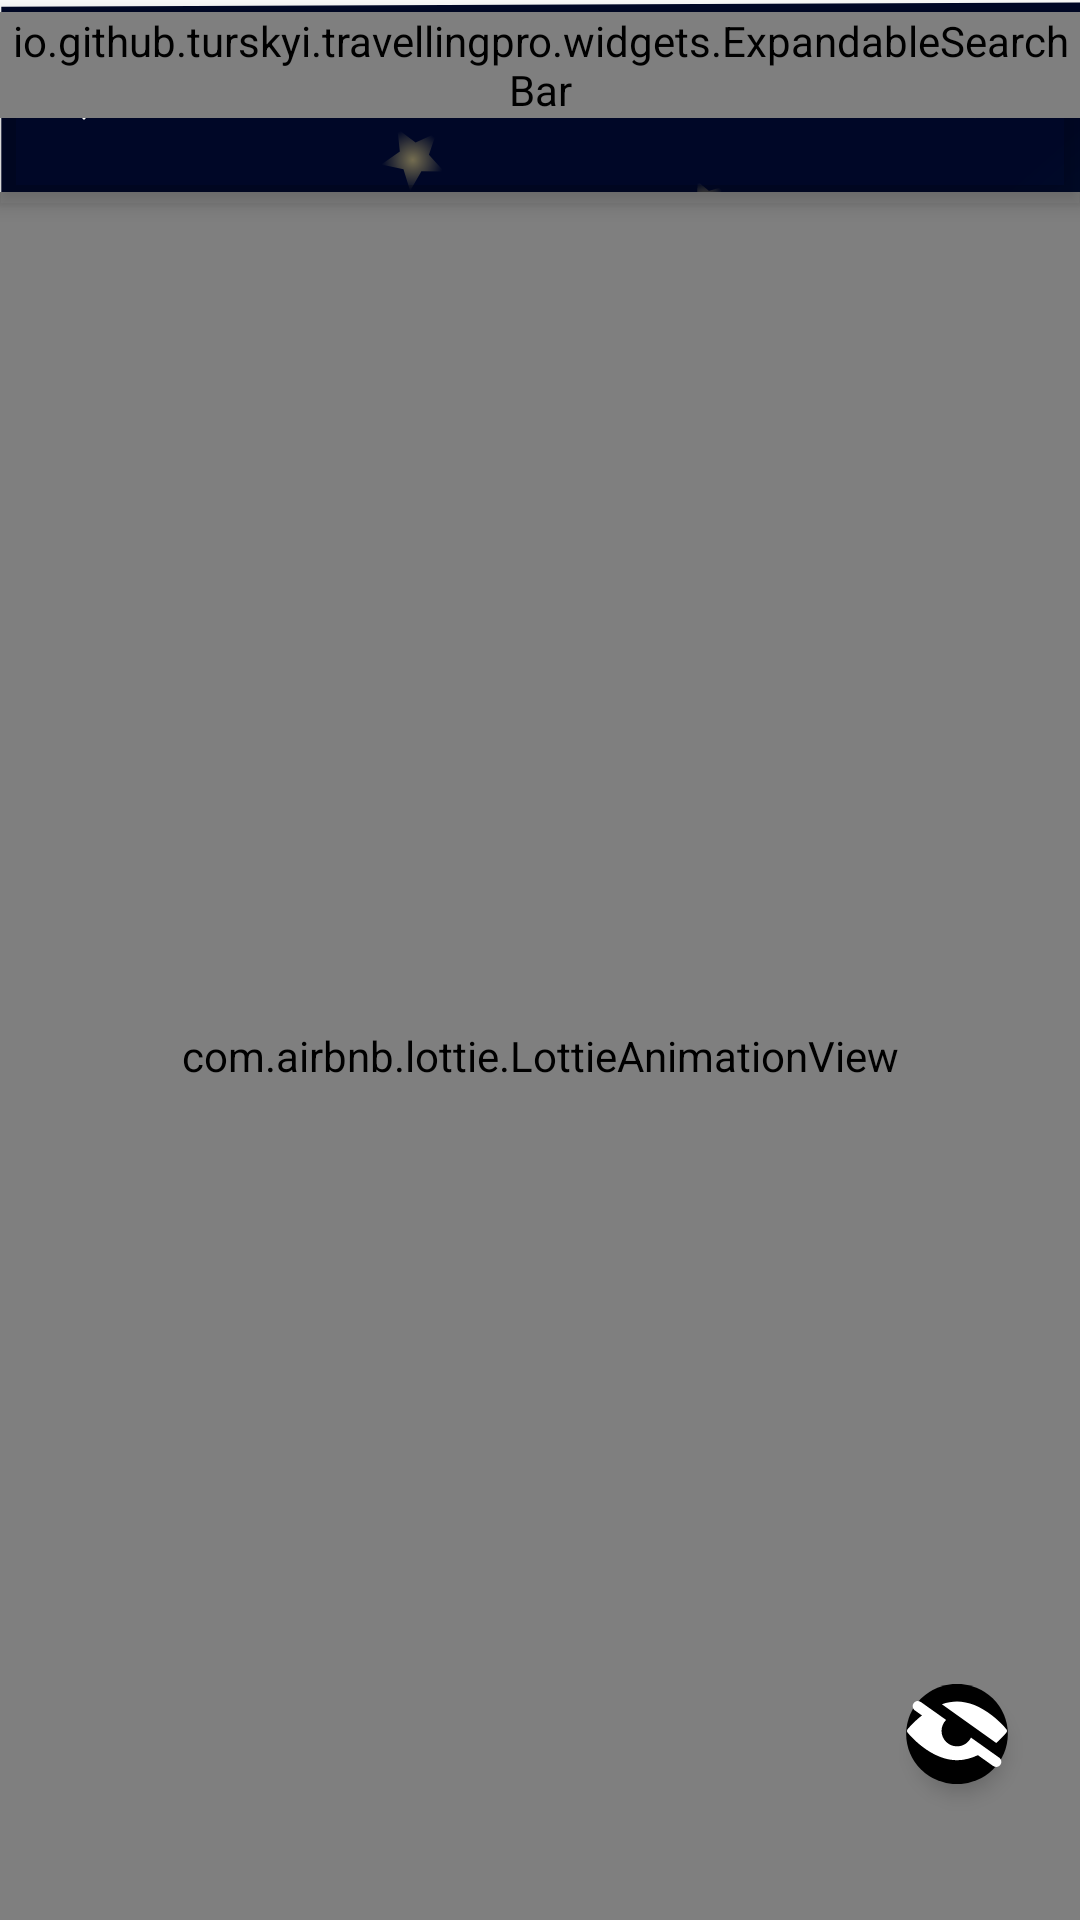

Point at icon controls on the screen. Image size 1080px×1920px, points as (x,y).
hide ripple: (957,1734)
